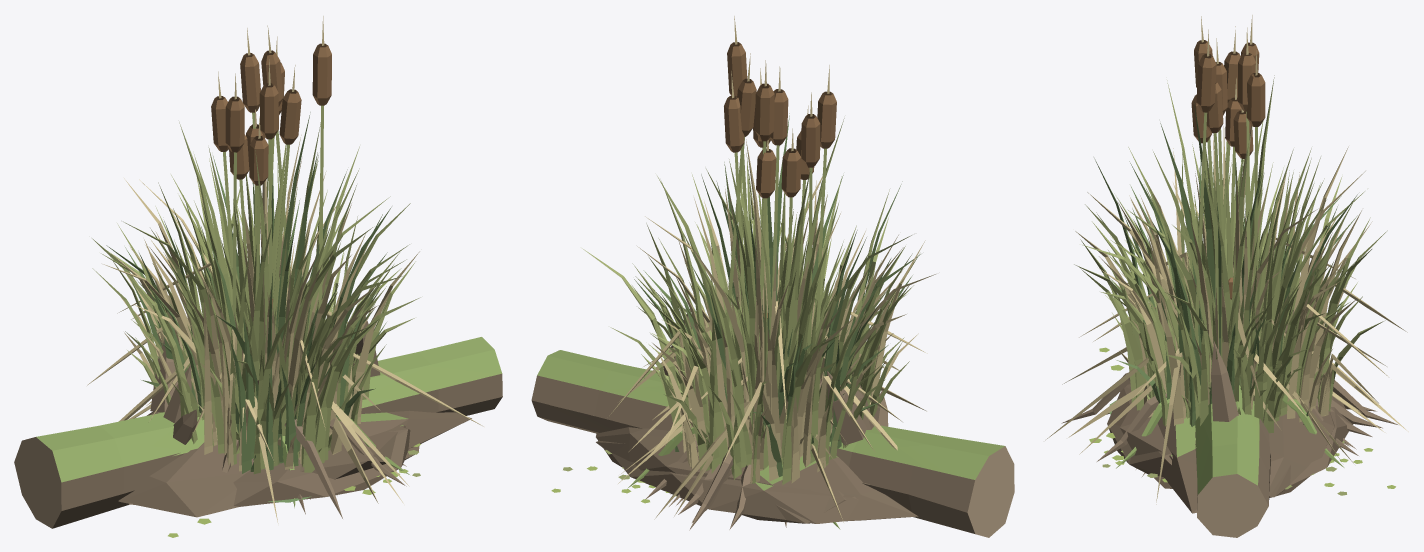
The model's file is marsh-kit.low.glb.
The picture shows the model from 3 angles, left to right: view 1: azimuth 30°, elevation 25°; view 2: azimuth 150°, elevation 25°; view 3: azimuth 270°, elevation 25°; orthographic projection. The views are drawn at different scales.
Parts seen in each view (by area): view 1: log-3, reeds-4, reeds-6, reeds-1, reeds-2, reeds-5, bank-3, reeds-3, bank-4, bank-1, log-4, roots-4 (+1 smaller); view 2: log-3, reeds-4, reeds-2, reeds-6, reeds-5, reeds-1, reeds-3, bank-3, bank-1, roots-4, bank-4, roots-2; view 3: reeds-4, reeds-2, reeds-6, reeds-1, reeds-5, log-3, reeds-3, bank-3, bank-1, roots-4, bank-4, log-1 (+1 smaller).
Boxes of the visible parts, x1,y1,x2,y2 form: log-3: (14,337,502,528); reeds-4: (92,16,483,499); reeds-6: (92,36,409,503); reeds-1: (110,65,420,523); reeds-2: (87,135,386,466); reeds-5: (111,144,419,514); bank-3: (118,354,471,517); reeds-3: (131,109,406,435); bank-4: (128,426,410,506); bank-1: (147,391,419,479); log-4: (163,364,197,444); roots-4: (284,418,409,518); log-3: (531,350,1014,537); reeds-4: (582,16,927,522); reeds-2: (635,113,912,506); reeds-6: (609,65,935,527); reeds-5: (618,159,912,483); reeds-1: (643,68,926,463); reeds-3: (637,128,913,519); bank-3: (596,423,918,521); bank-1: (612,453,858,523); roots-4: (627,424,840,530); bank-4: (596,440,846,523); roots-2: (645,435,751,529); reeds-4: (1079,15,1407,504); reeds-2: (1075,123,1386,449); reeds-6: (1068,16,1388,454); reeds-1: (1062,26,1357,419); reeds-5: (1045,143,1378,469); log-3: (1194,385,1270,537); reeds-3: (1099,78,1408,431); bank-3: (1157,399,1334,513); bank-1: (1120,391,1353,488); roots-4: (1061,373,1397,468); bank-4: (1107,380,1293,497); log-1: (1211,341,1259,440).
Bounding box in the file's own units: 1.3 × 1.26 × 0.9544.
